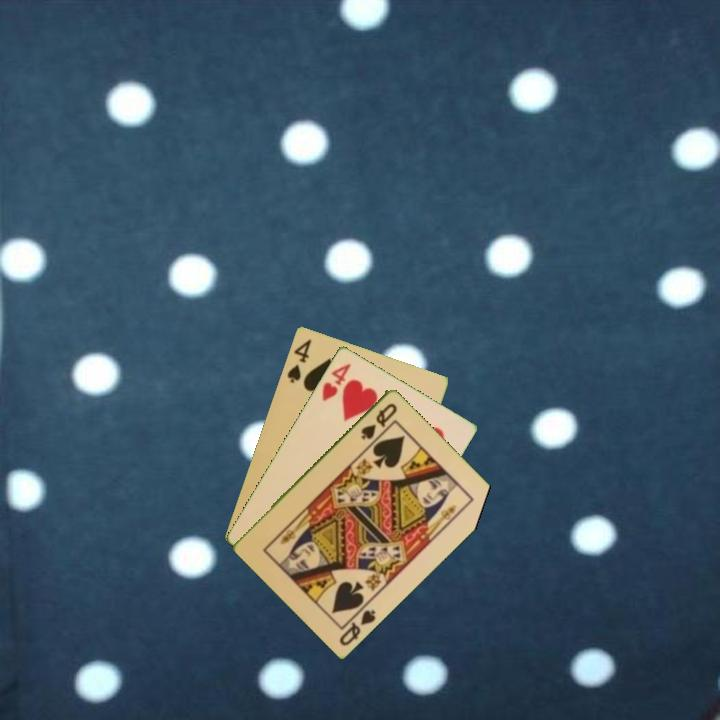4h: (318, 359, 354, 404)
4s: (283, 335, 314, 386)
Qs: (336, 599, 379, 648), (357, 399, 400, 442)
